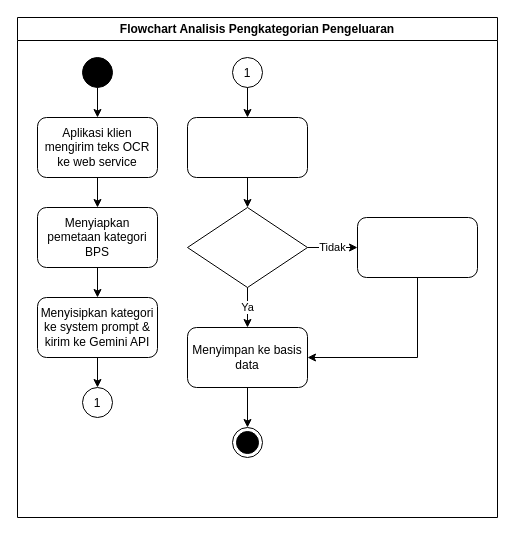
The diagram is 515 pixels wide and 535 high, and some of its shapes have lost their labels. The centre of each missing label's shape, as x and y in pixels:
Gemini API mengembalikan JSON prediksi kategori: (247,147)
Pengguna mengubah kategori secara manual: (417,247)
Prediksi kategori sesuai?: (247,247)
